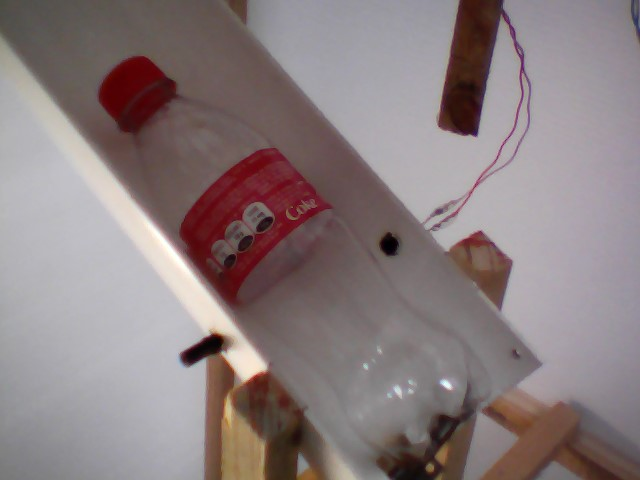plastico: (88, 51, 499, 480)
